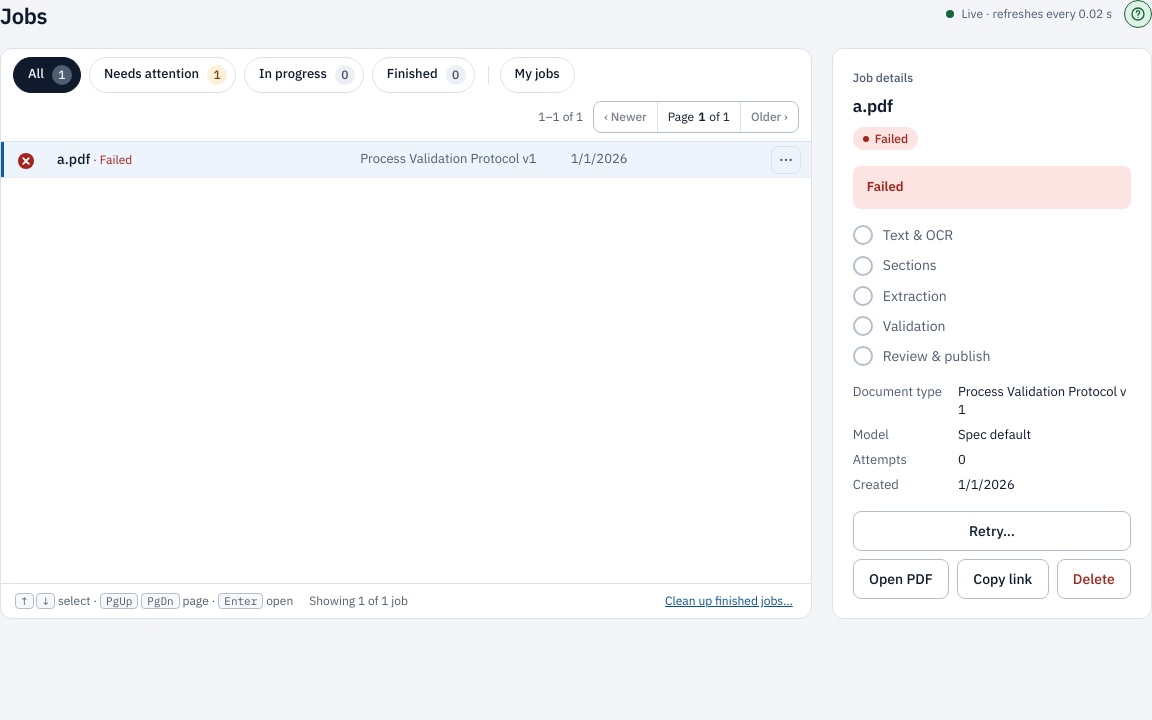
it: JobsPage › keeps the shown job (and an open retry dialog) when a poll brings a newer job needing attention
Step 1. Click the button with aria-label "Retry a.pdf" → x=992, y=531, box [853,511,1131,551]
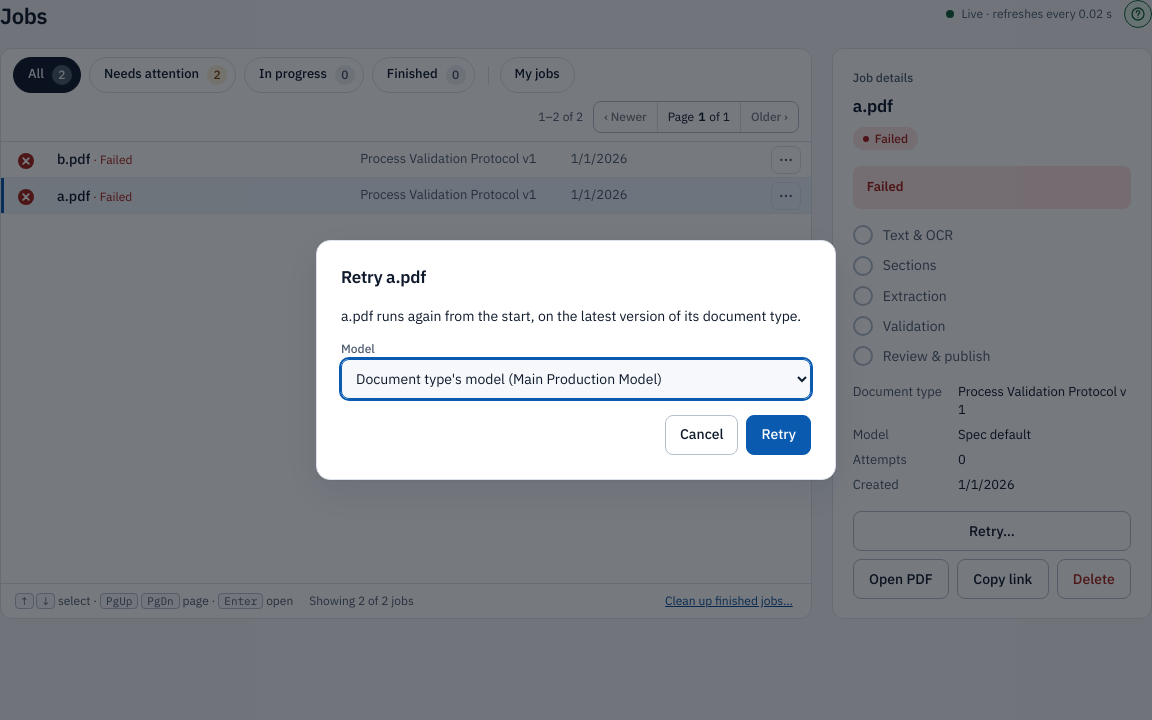
Expected: the heading "a.pdf" is shown, [853,95,893,117]
Expected: the button with aria-label "Show details for b.pdf" is shown, [57,150,90,170]
Expected: the dialog "Retry a.pdf" is shown, [316,240,836,480]
